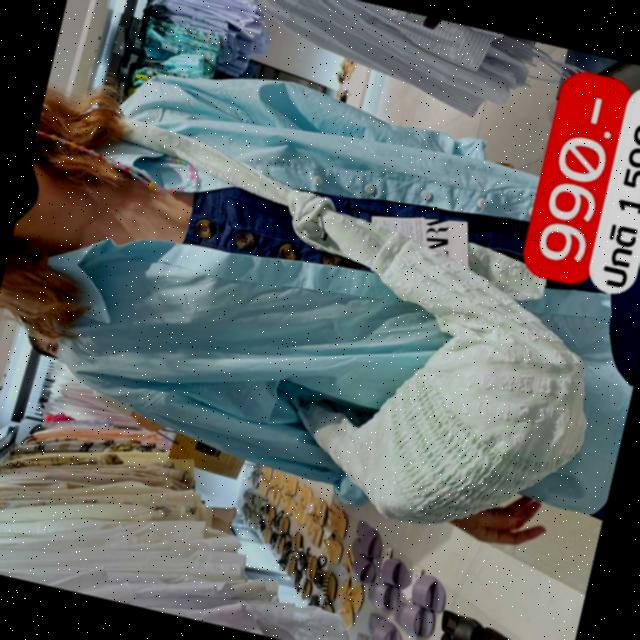handbag: (277, 204, 640, 576)
